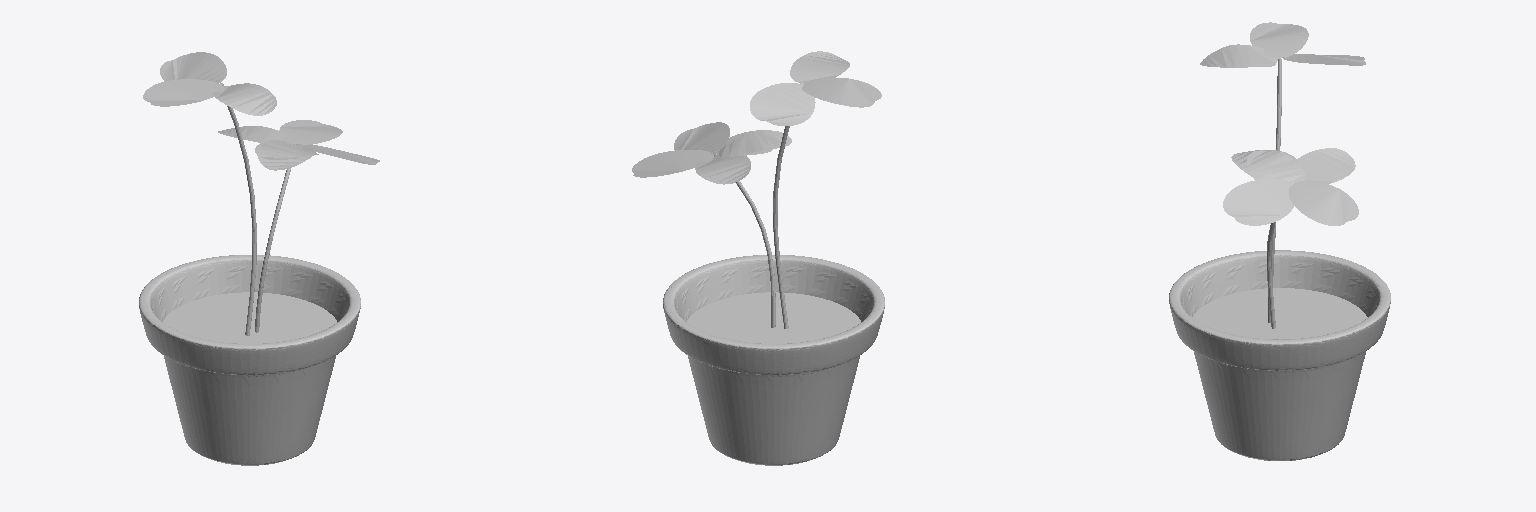
The model's file is flowerpot.obj.
3 renders of one model, left to right at view 1: azimuth 30°, elevation 25°; view 2: azimuth 150°, elevation 25°; view 3: azimuth 270°, elevation 25°, orthographic.
Parts seen in each view (by area): view 1: Cylinder001, ?, Ellipse001, Ellipse002, Ellipse003, Ellipse006, Line001, Ellipse008, Line002, Ellipse007, Ellipse005; view 2: Cylinder001, ?, Ellipse002, Ellipse001, Ellipse006, Ellipse003, Ellipse005, Ellipse007, Line001, Ellipse008, Line002, Ellipse004; view 3: Cylinder001, ?, Ellipse005, Ellipse006, Ellipse001, Ellipse007, Ellipse003, Ellipse008, Ellipse004, Ellipse002, Line001.
Part boxes in pixels (x1,y1,x2,y2): Cylinder001: (139, 255, 360, 465); ?: (163, 292, 336, 343); Ellipse001: (143, 79, 223, 106); Ellipse002: (160, 52, 226, 83); Ellipse003: (212, 83, 276, 115); Ellipse006: (279, 120, 342, 144); Line001: (220, 83, 256, 335); Ellipse008: (257, 144, 314, 170); Line002: (255, 144, 297, 332); Ellipse007: (218, 126, 293, 143); Ellipse005: (298, 144, 379, 164); Cylinder001: (663, 255, 884, 465); ?: (687, 292, 860, 343); Ellipse002: (750, 83, 815, 125); Ellipse001: (802, 78, 881, 107); Ellipse006: (632, 150, 713, 177); Ellipse003: (790, 51, 849, 83); Ellipse005: (674, 122, 729, 153); Ellipse007: (695, 156, 750, 184); Line001: (773, 83, 803, 328); Ellipse008: (715, 130, 791, 154); Line002: (714, 153, 775, 327); Ellipse004: (713, 133, 779, 158); Cylinder001: (1169, 250, 1390, 460); ?: (1192, 288, 1367, 339); Ellipse005: (1223, 179, 1293, 225); Ellipse006: (1289, 181, 1358, 225); Ellipse001: (1250, 22, 1308, 58); Ellipse007: (1297, 148, 1355, 186); Ellipse003: (1200, 44, 1277, 67); Ellipse008: (1231, 150, 1292, 182); Ellipse004: (1247, 150, 1304, 182); Ellipse002: (1282, 54, 1365, 65); Line001: (1268, 59, 1281, 322).
Size of the model in its own units: 192 by 313 by 171.